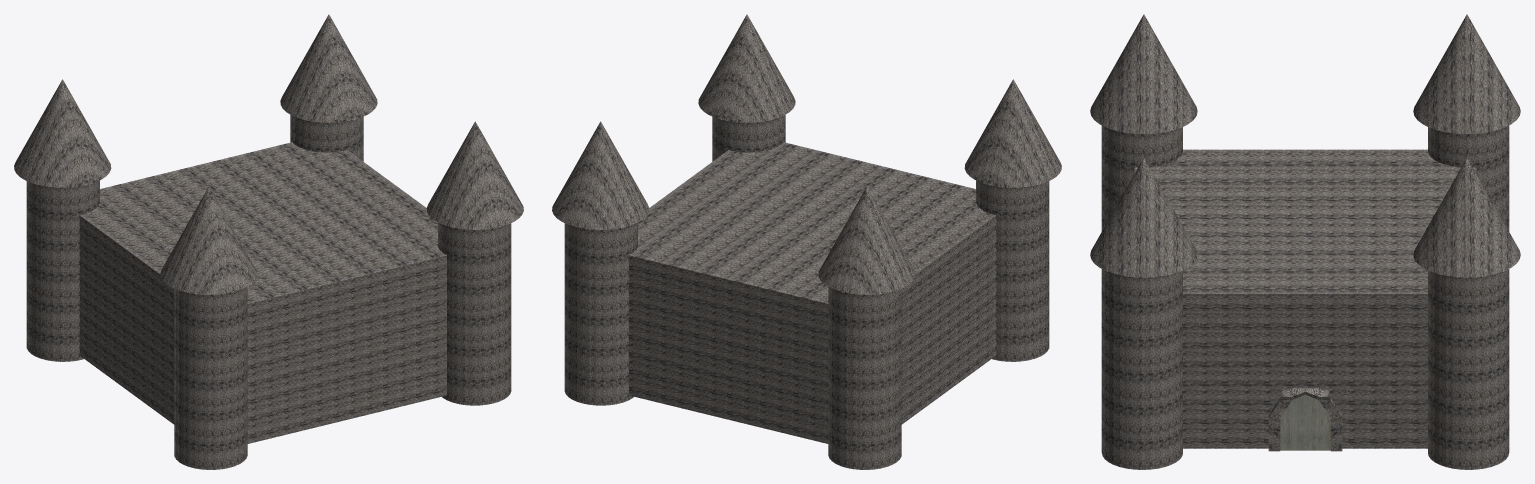
File: castle.fbx
3 views of the same model, side by side, from view 1: azimuth 30°, elevation 25°; view 2: azimuth 150°, elevation 25°; view 3: azimuth 270°, elevation 25° (orthographic). The views are drawn at different scales.
Visible parts, largest first — view 1: Cube, Cylinder; view 2: Cube, Cylinder; view 3: Cube, Cylinder, Plane, Cube.002.
Part boxes in pixels (x1=…): Cube: x1=79, y1=142, x2=446, y2=443; Cylinder: x1=14, y1=14, x2=523, y2=469; Cube: x1=629, y1=142, x2=996, y2=443; Cylinder: x1=552, y1=14, x2=1061, y2=469; Cube: x1=1134, y1=149, x2=1476, y2=448; Cylinder: x1=1090, y1=14, x2=1520, y2=469; Plane: x1=1280, y1=395, x2=1330, y2=450; Cube.002: x1=1268, y1=388, x2=1342, y2=451.
Size of the model in its own units: 7856 by 5741 by 7569.
2 materials, 2 textured.
